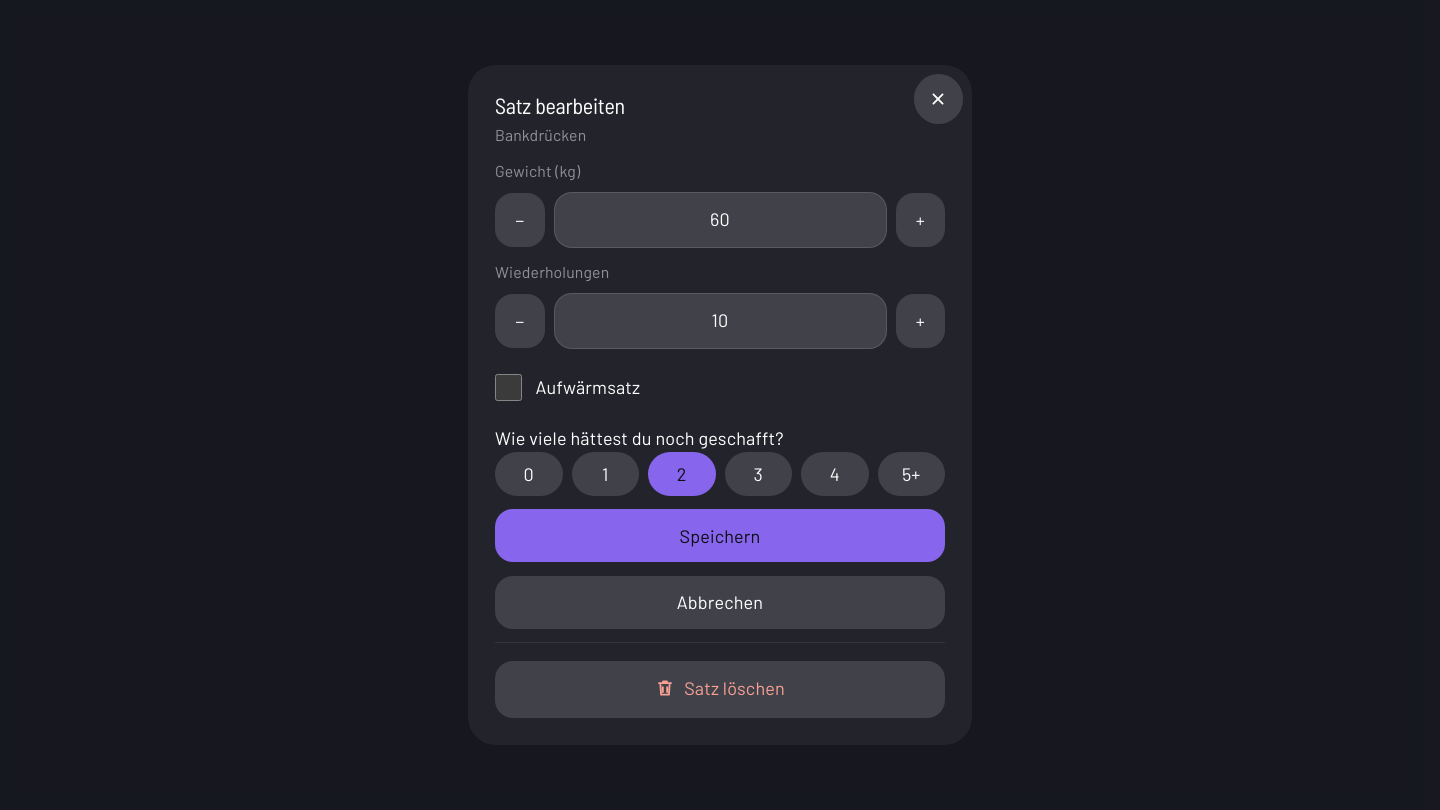
Scenario: SetEditDialog › refuses empty repetitions with the message inside the dialog and does not save
Clear the field labelled "Wiederholungen" at (720, 321), box [554, 293, 886, 349]
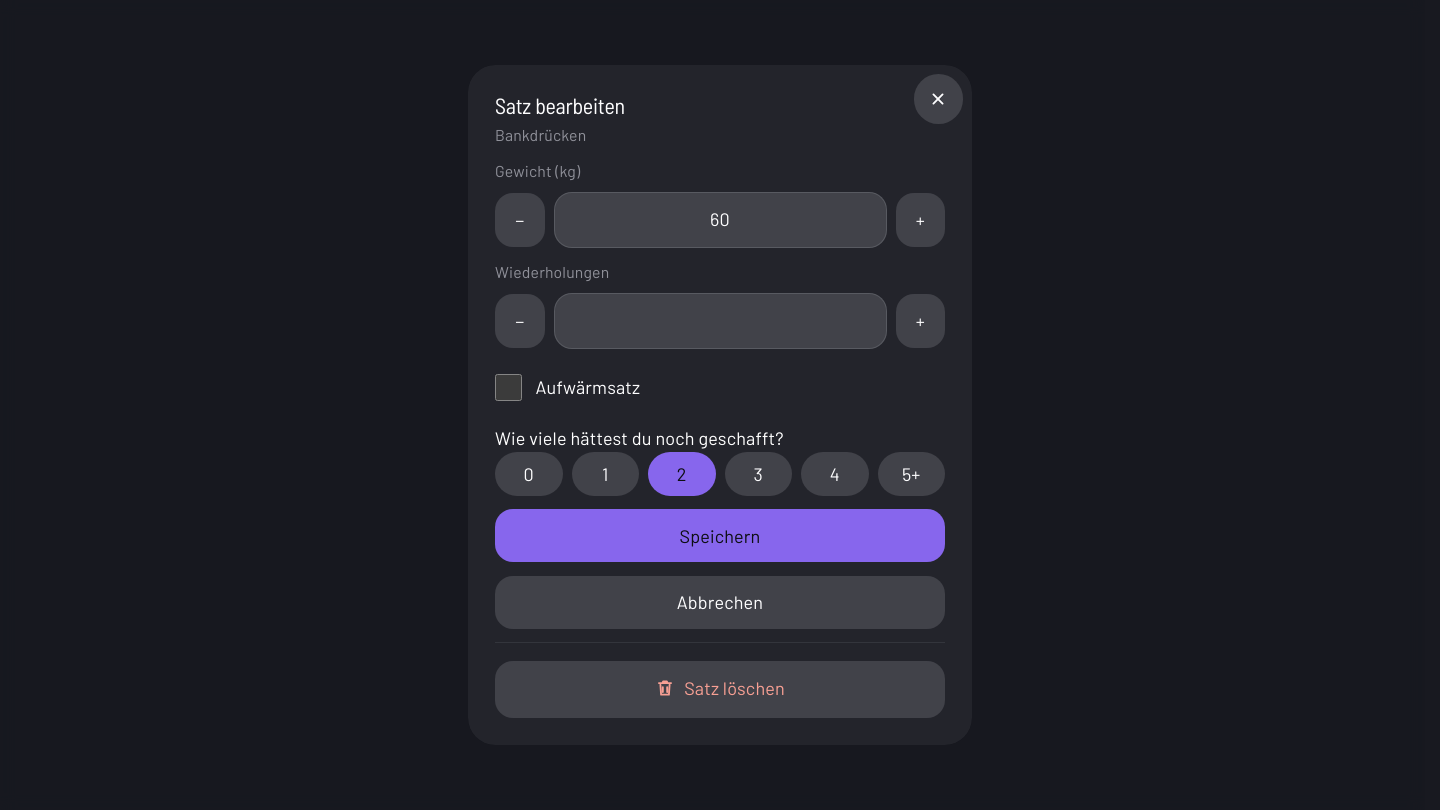
Click the button "Speichern" at (720, 536), box [495, 509, 945, 562]
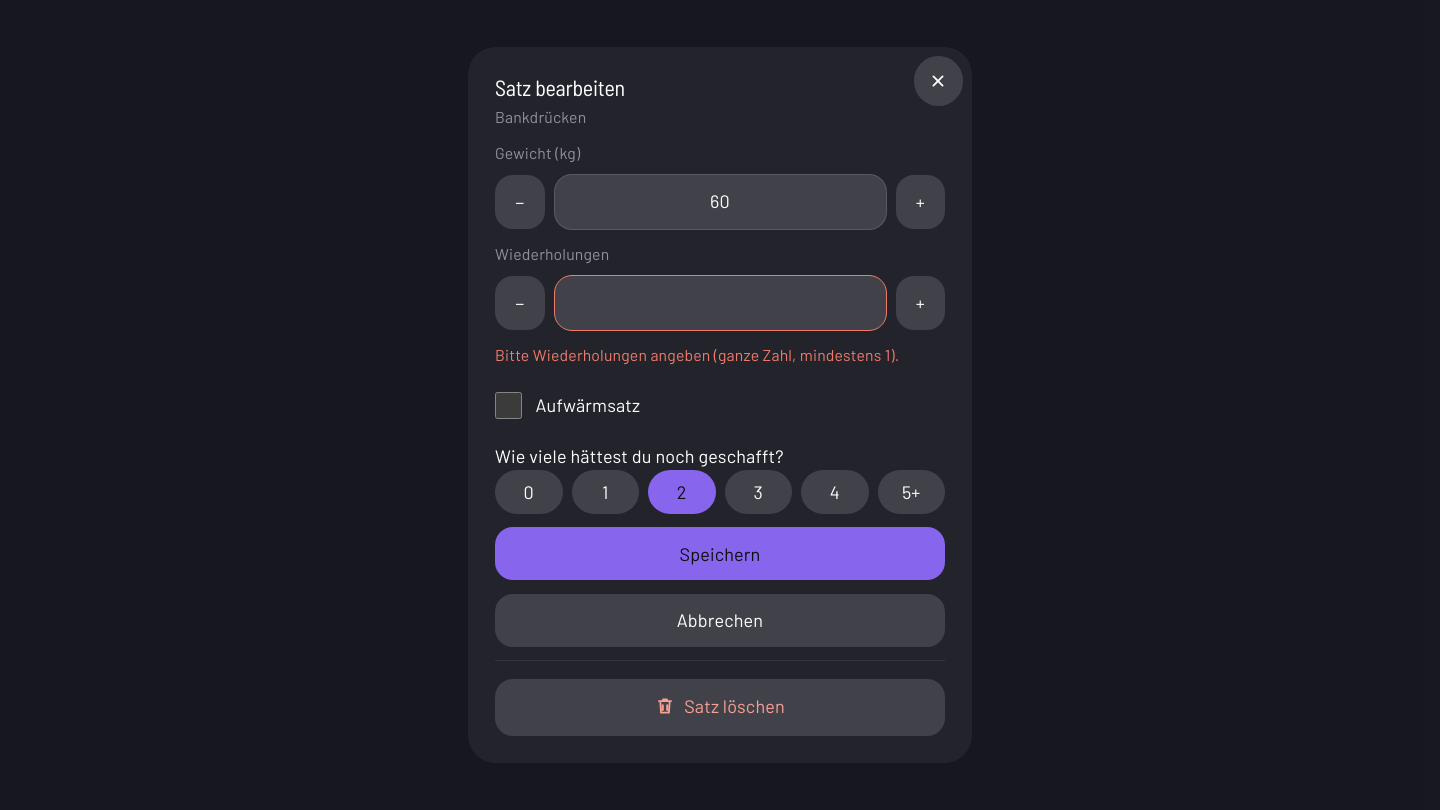
Now the text "Bitte Wiederholungen angeben (ganze Zahl, mindestens 1)." is shown, box [495, 344, 945, 367]
